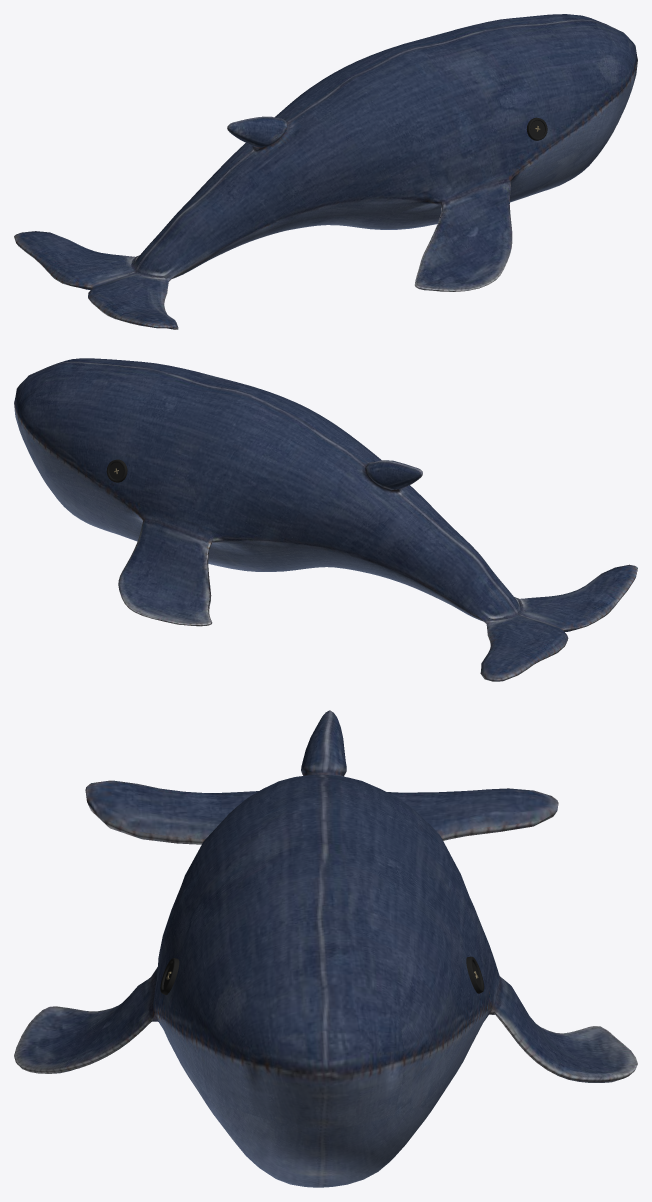
The model's file is toy_plush_whale.glb.
3 renders of one model, top to bottom at view 1: azimuth 30°, elevation 25°; view 2: azimuth 150°, elevation 25°; view 3: azimuth 270°, elevation 25°, orthographic. The views are drawn at different scales.
Parts seen in each view (by area): view 1: toy_plush_whale; view 2: toy_plush_whale; view 3: toy_plush_whale.
Boxes of the visible parts, x1,y1,x2,y2 form: toy_plush_whale: [14, 14, 637, 329]; toy_plush_whale: [14, 358, 637, 681]; toy_plush_whale: [14, 710, 637, 1187].
Size of the model in its own units: 24.32 by 7 by 14.11.
1 material, 1 textured.
